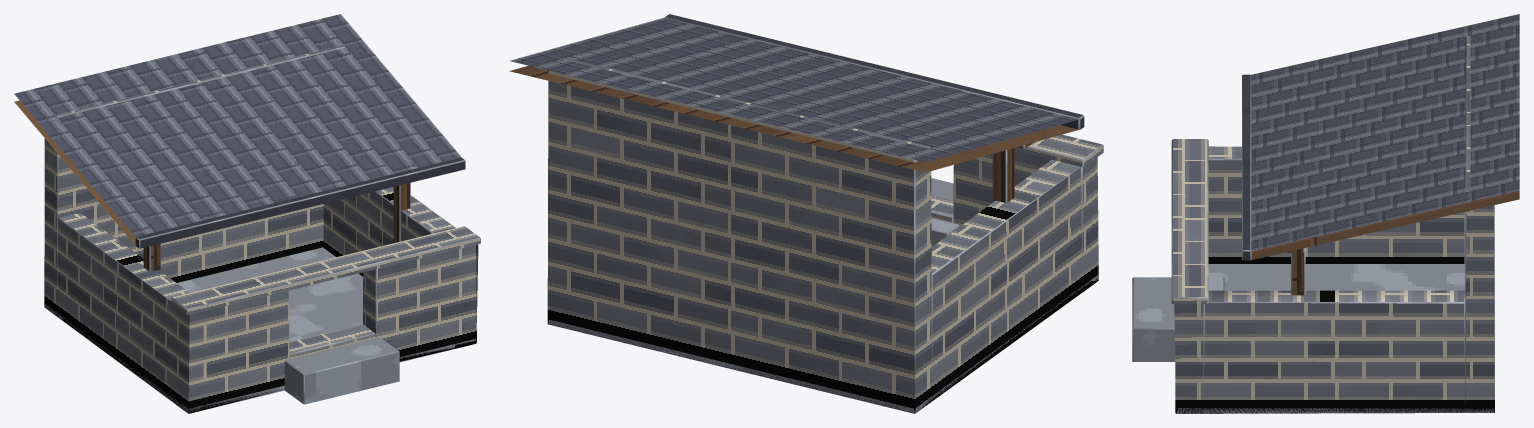
The model's file is cn_pigpen_1.glb.
3 views of the same model, side by side, from view 1: azimuth 30°, elevation 25°; view 2: azimuth 150°, elevation 25°; view 3: azimuth 270°, elevation 25° (orthographic). The views are drawn at different scales.
Parts seen in each view (by area): view 1: cn_pigpen_2; view 2: cn_pigpen_2; view 3: cn_pigpen_2.
Boxes of the visible parts, x1,y1,x2,y2 form: cn_pigpen_2: [14, 14, 480, 413]; cn_pigpen_2: [509, 14, 1103, 413]; cn_pigpen_2: [1132, 14, 1519, 413].
Size of the model in its own units: 3.4 by 2.1 by 3.15.
Materials: 7 (7 with a texture image).
